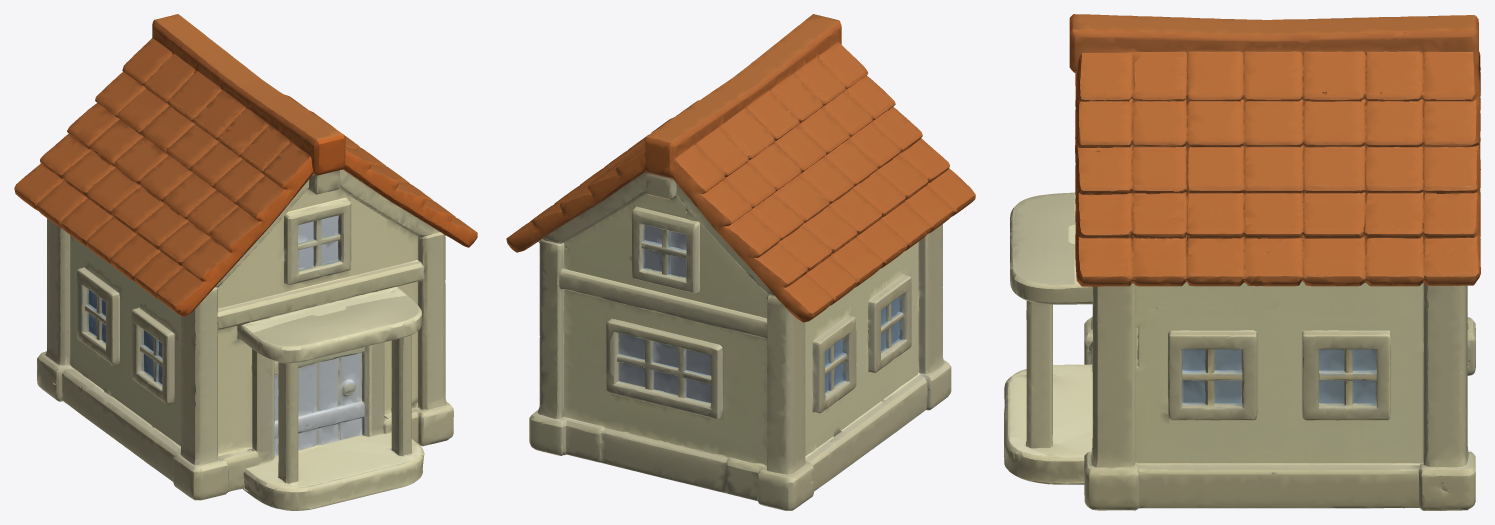
File: house.glb
3 views of the same model, side by side, from view 1: azimuth 30°, elevation 25°; view 2: azimuth 150°, elevation 25°; view 3: azimuth 270°, elevation 25° (orthographic). The views are drawn at different scales.
Parts seen in each view (by area): view 1: geometry_0; view 2: geometry_0; view 3: geometry_0.
Part boxes in pixels (bbox=[...]): geometry_0: bbox=[14, 14, 477, 510]; geometry_0: bbox=[506, 14, 975, 510]; geometry_0: bbox=[1004, 14, 1480, 510].
Bounding box in the file's own units: 0.12 × 0.1299 × 0.1342.
Materials: 1 (1 with a texture image).
